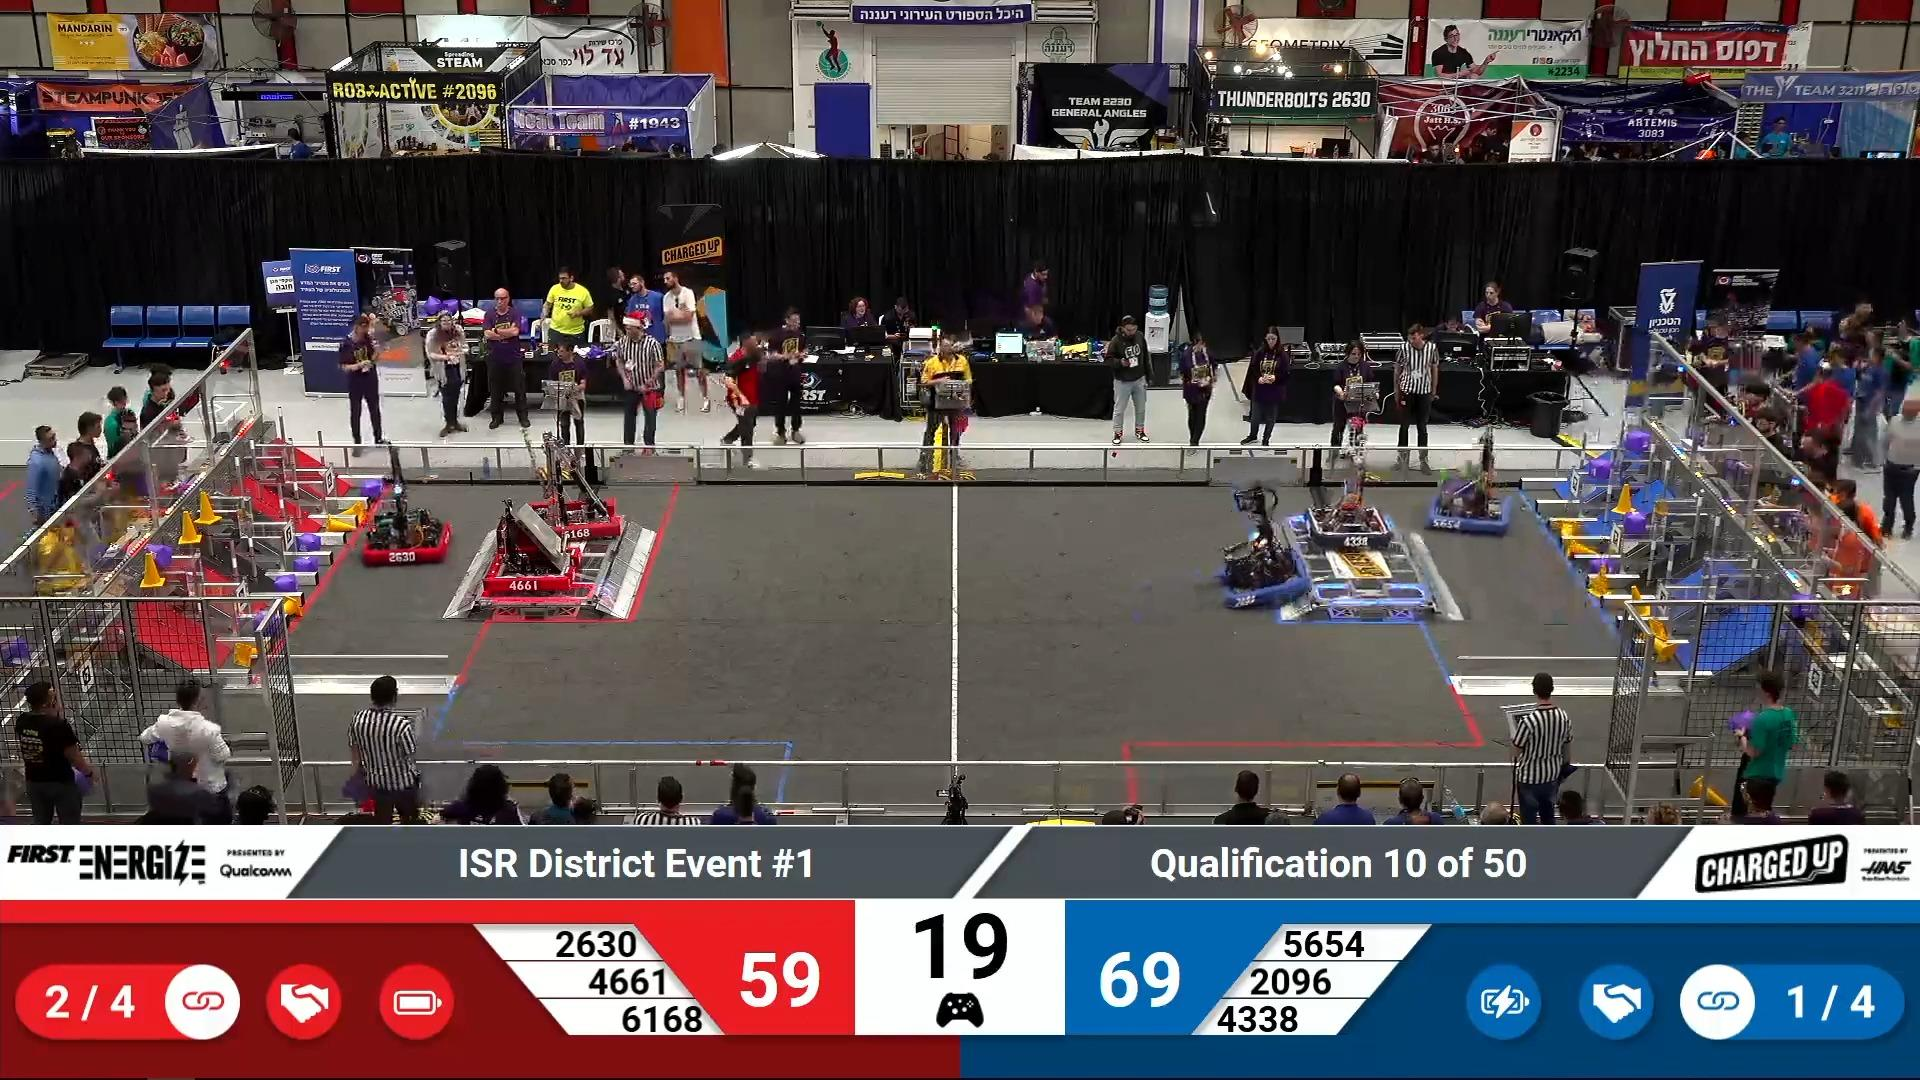robot: (517, 446, 624, 546), (1211, 524, 1313, 616), (1424, 459, 1515, 542), (360, 489, 454, 570), (479, 530, 583, 599), (1300, 480, 1391, 553)
